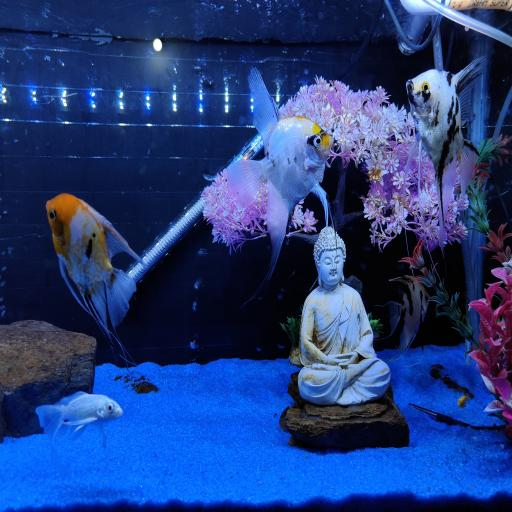Fish: (227, 68, 333, 296), (46, 194, 141, 364), (406, 58, 485, 252), (36, 392, 122, 463), (388, 276, 429, 356), (457, 394, 469, 408)
